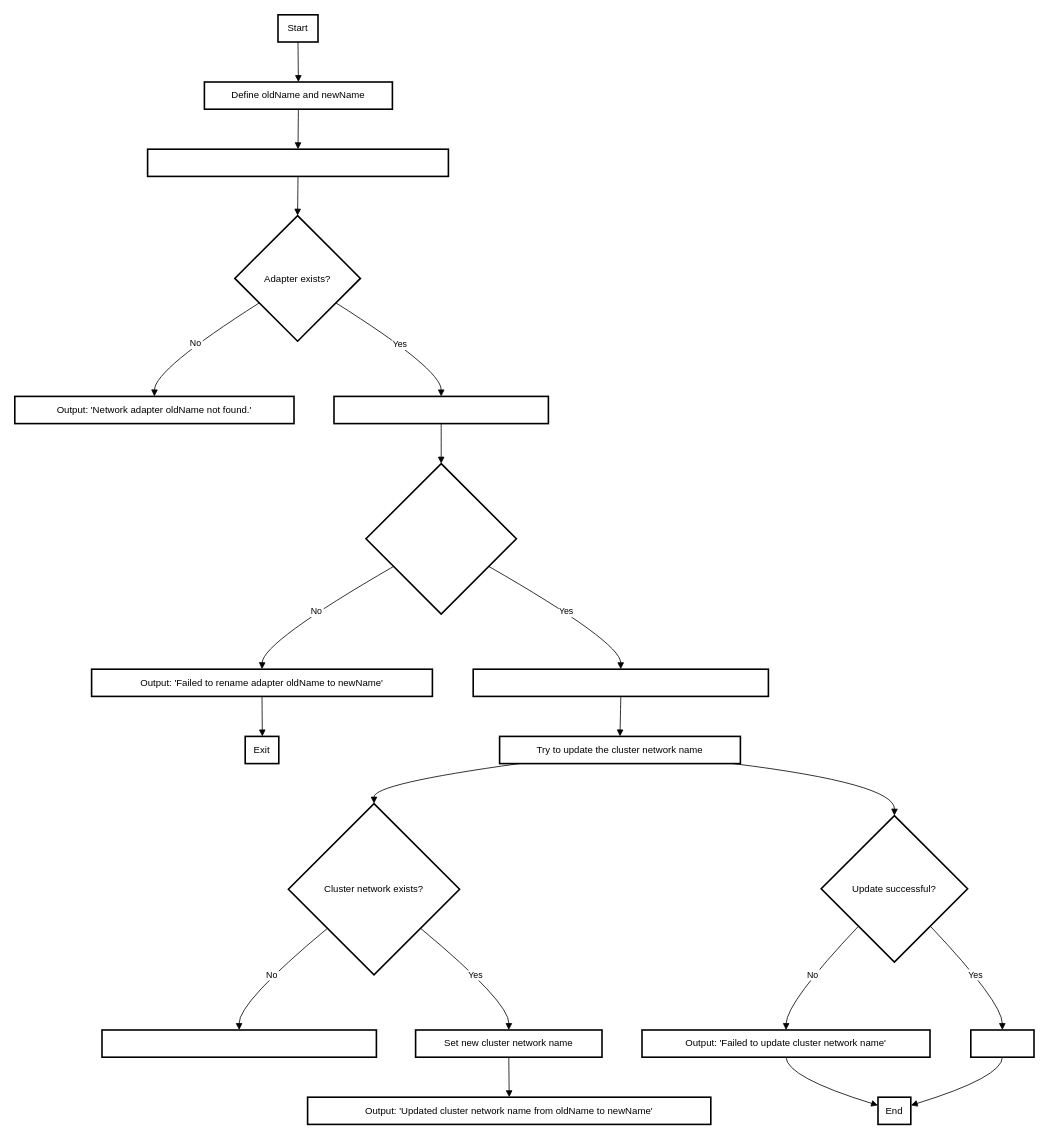
Some shapes in this 1048 by 1138 pixel diagram are drawn without their labels. Each missing label, with the centre of its shape:
"Check if the network adapter with oldName exists" belongs at pixel 297 162.
"Continue" belongs at pixel 1002 1043.
"Output: 'Cluster network oldName not found.'" belongs at pixel 239 1043.
"Output: 'Renamed adapter oldName to newName'" belongs at pixel 620 682.
"Rename successful?" belongs at pixel 441 538.
"Try to rename the network adapter" belongs at pixel 441 409.
